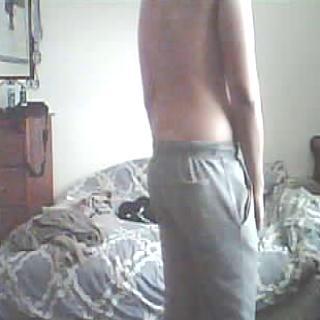Gray Sweatpants: (144, 142, 268, 320)
